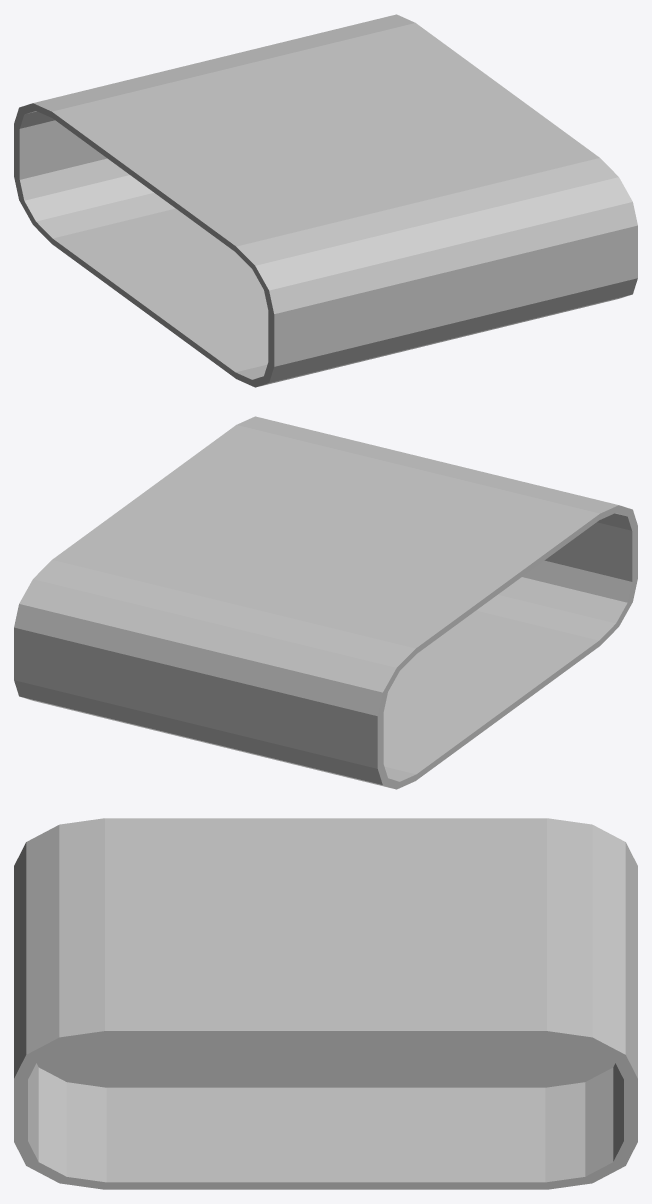
Rendered from Table_4.fbx.
The picture shows the model from 3 angles, top to bottom: view 1: azimuth 30°, elevation 25°; view 2: azimuth 150°, elevation 25°; view 3: azimuth 270°, elevation 25°; orthographic projection. The views are drawn at different scales.
Visible parts, largest first — view 1: Table_4; view 2: Table_4; view 3: Table_4.
Part boxes in pixels (<box>): Table_4: <box>14,14,637,387</box>; Table_4: <box>14,416,637,789</box>; Table_4: <box>14,818,637,1189</box>.
Size of the model in its own units: 0.7204 by 0.2506 by 0.8925.
